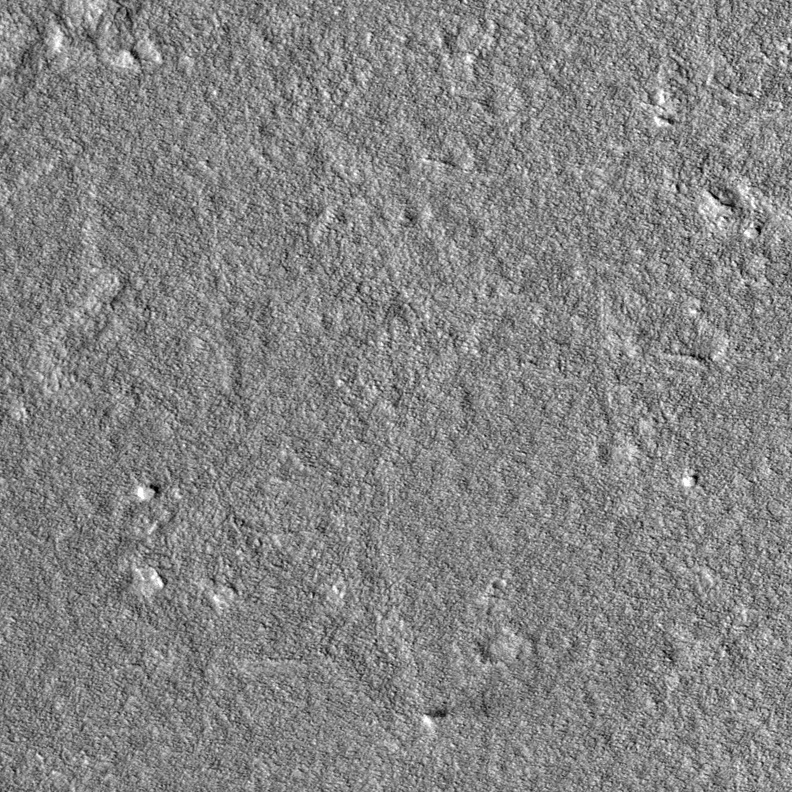dust_devil: (421, 705, 450, 731)
